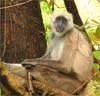monkey: (23, 13, 97, 84)
